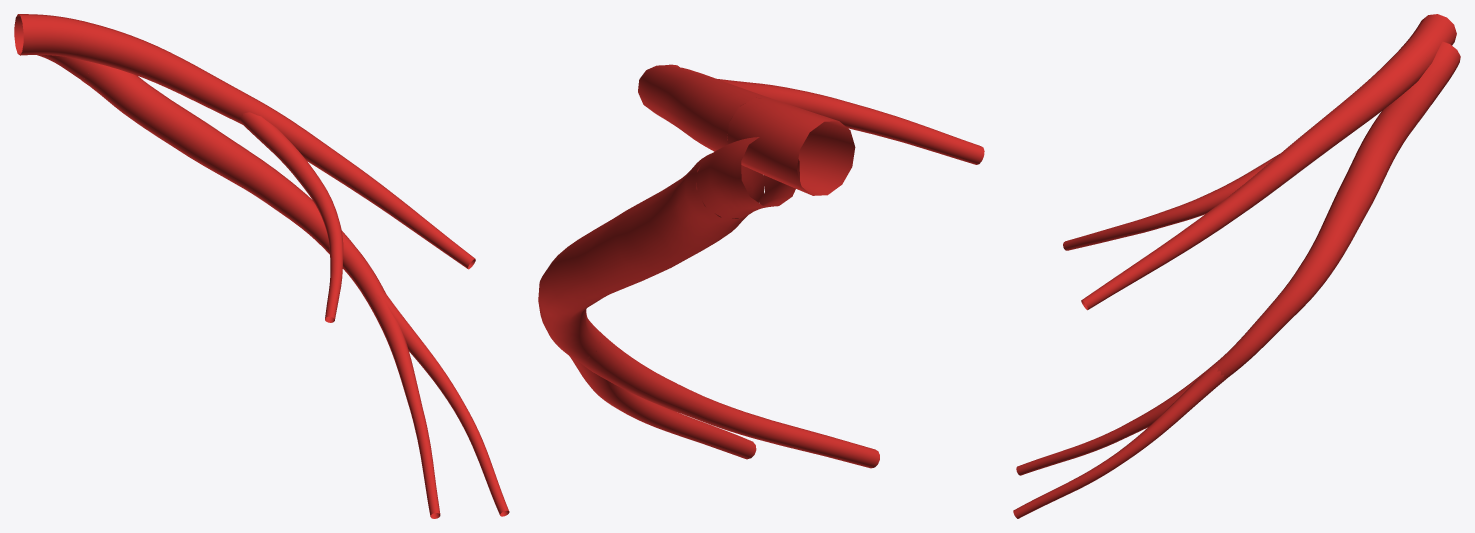
Rendered from circulatorio-lingular-vein-of-left-lung.glb.
The picture shows the model from 3 angles, left to right: view 1: azimuth 30°, elevation 25°; view 2: azimuth 150°, elevation 25°; view 3: azimuth 270°, elevation 25°; orthographic projection. The views are drawn at different scales.
Parts seen in each view (by area): view 1: Inferior lingular vein of left lung, Superior lingular vein of left lung, Lingular vein of left lung; view 2: Inferior lingular vein of left lung, Lingular vein of left lung, Superior lingular vein of left lung; view 3: Inferior lingular vein of left lung, Superior lingular vein of left lung, Lingular vein of left lung.
Part boxes in pixels (x1,y1,x2,y2): Inferior lingular vein of left lung: [81, 63, 509, 518]; Superior lingular vein of left lung: [75, 21, 475, 322]; Lingular vein of left lung: [14, 14, 94, 80]; Inferior lingular vein of left lung: [538, 153, 879, 468]; Lingular vein of left lung: [696, 98, 855, 218]; Superior lingular vein of left lung: [638, 64, 984, 166]; Inferior lingular vein of left lung: [1013, 85, 1431, 518]; Superior lingular vein of left lung: [1063, 45, 1429, 310]; Lingular vein of left lung: [1400, 14, 1460, 104].
Bounding box in the file's own units: 0.0511 × 0.0692 × 0.0734.
